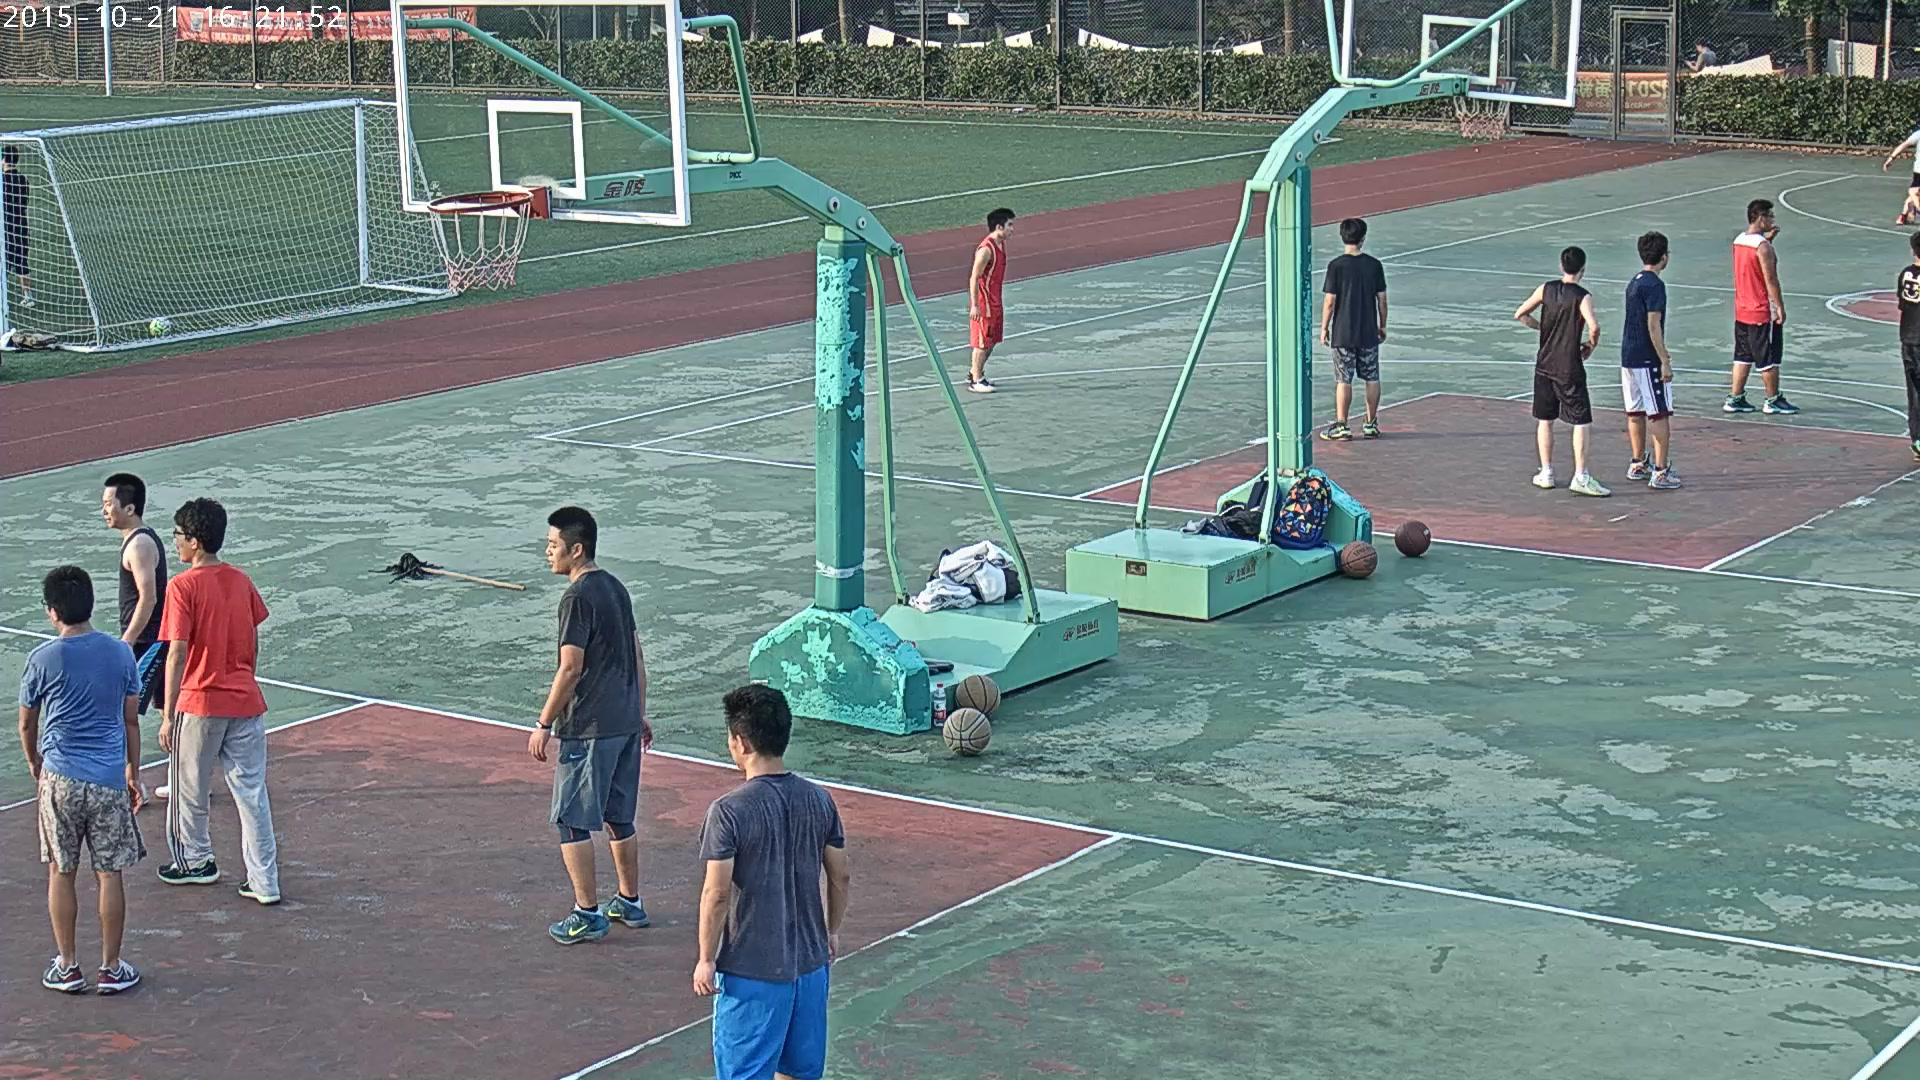face: (545, 525, 573, 573), (102, 486, 127, 528), (175, 524, 191, 561), (726, 727, 738, 768), (1000, 218, 1014, 239), (1763, 207, 1775, 232), (1431, 27, 1437, 37), (1695, 43, 1700, 51)
